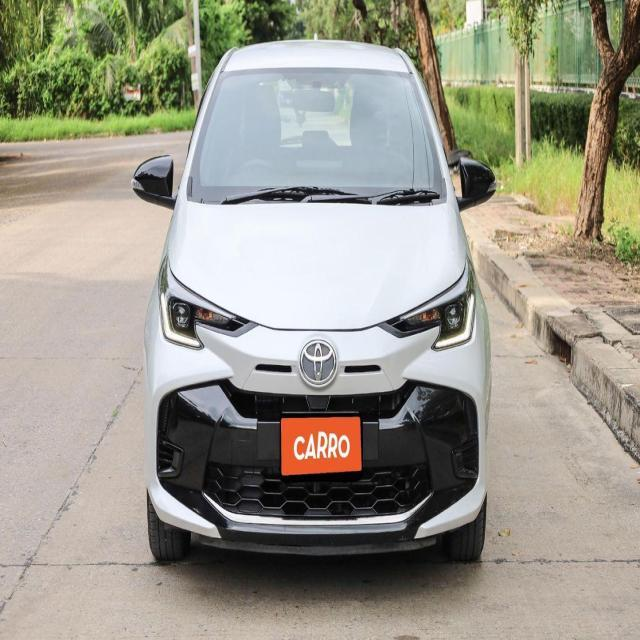Hatchback: (142, 38, 492, 565)
